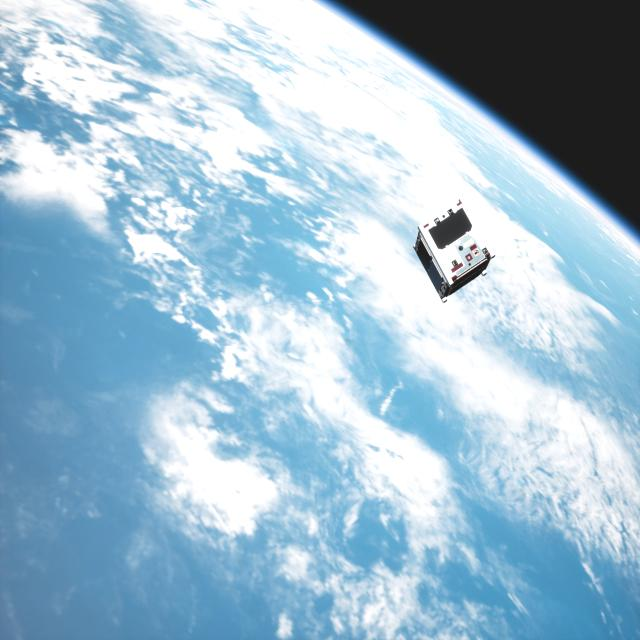satellite: (405, 203, 491, 306)
